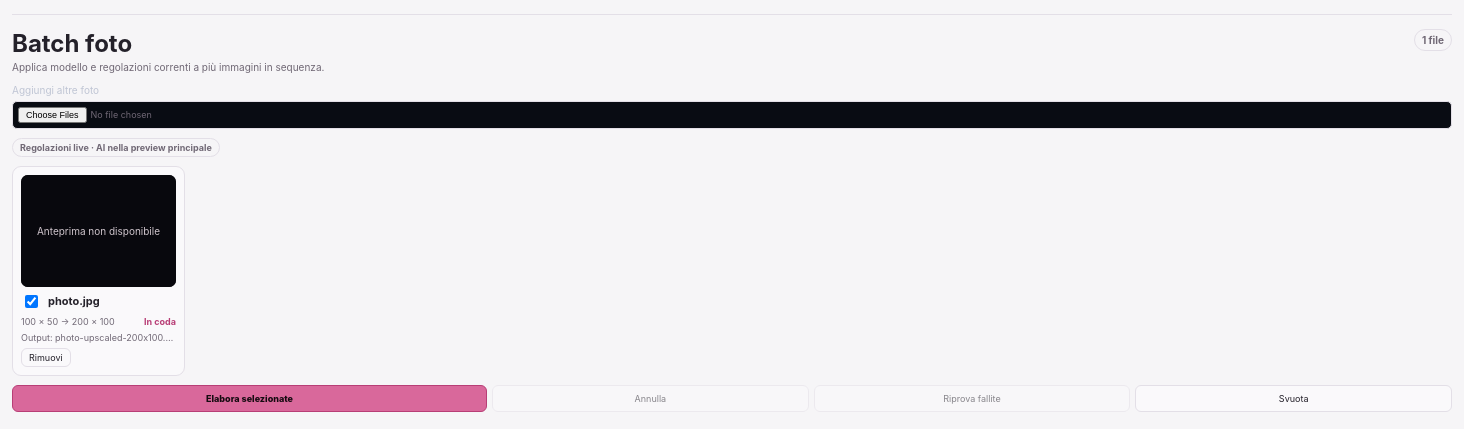
it: UpscalerBatchPanel › snapshots current settings and queue atomically after a pending destination picker
Click the button "Elabora selezionate" at (250, 398), box [12,384,487,412]
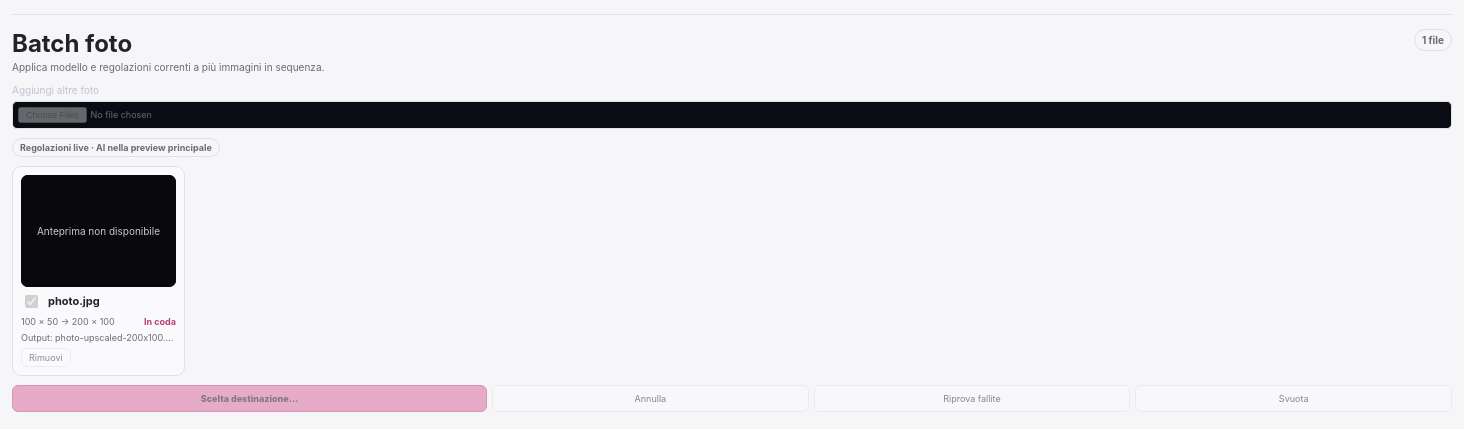
Check: the button "Scelta destinazione…" is disabled, box [12,384,487,412]
